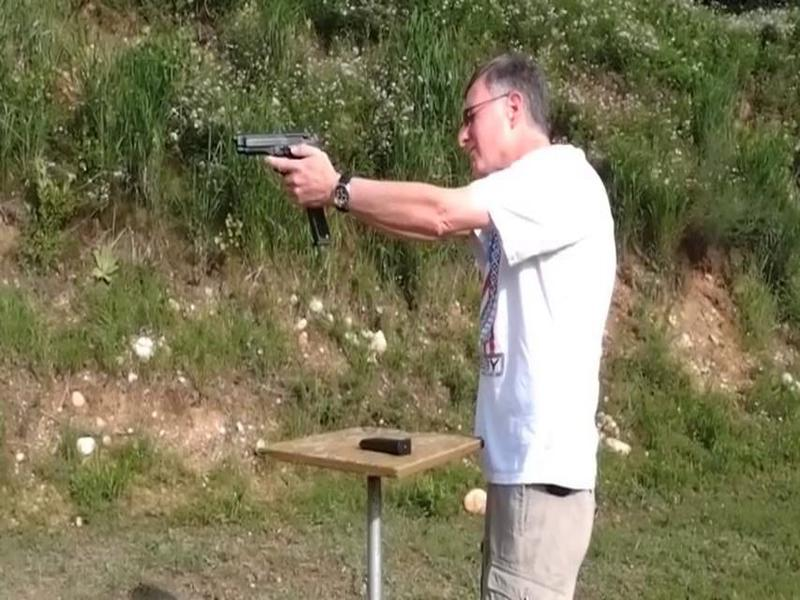Pistola: (234, 112, 345, 214)
